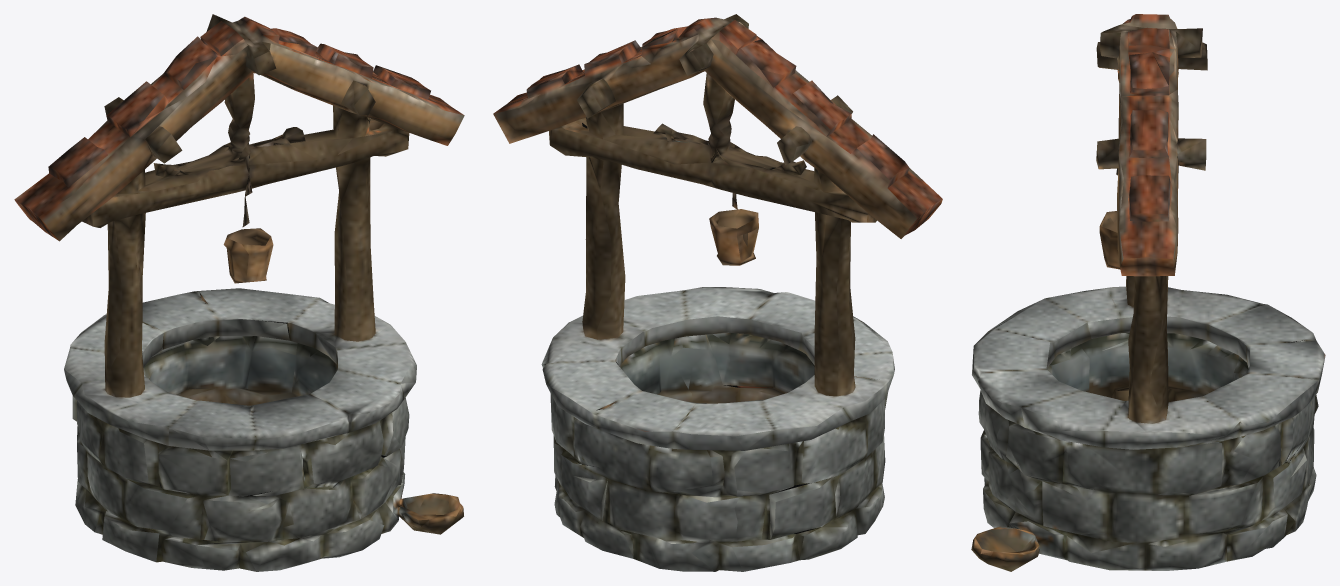
Rendered from well.glb.
3 views of the same model, side by side, from view 1: azimuth 30°, elevation 25°; view 2: azimuth 150°, elevation 25°; view 3: azimuth 270°, elevation 25° (orthographic).
Visible parts, largest first — view 1: Mesh_0.001; view 2: Mesh_0.001; view 3: Mesh_0.001.
Part boxes in pixels (x1=…): Mesh_0.001: x1=14, y1=14, x2=464, y2=571; Mesh_0.001: x1=493, y1=14, x2=942, y2=571; Mesh_0.001: x1=971, y1=14, x2=1325, y2=571.
Bounding box in the file's own units: 1.75 × 1.9 × 1.26.
1 material, 1 textured.
